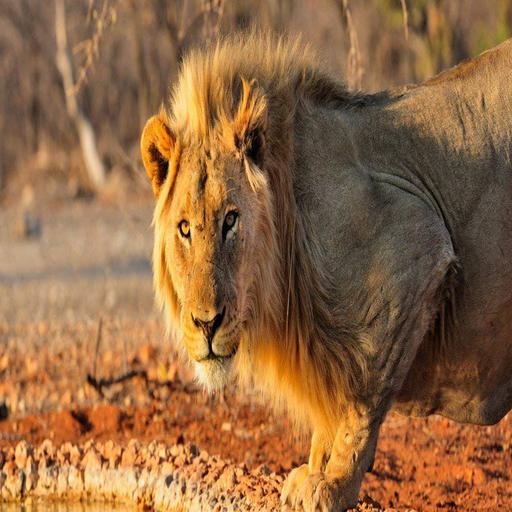Lion: (140, 33, 512, 512)
